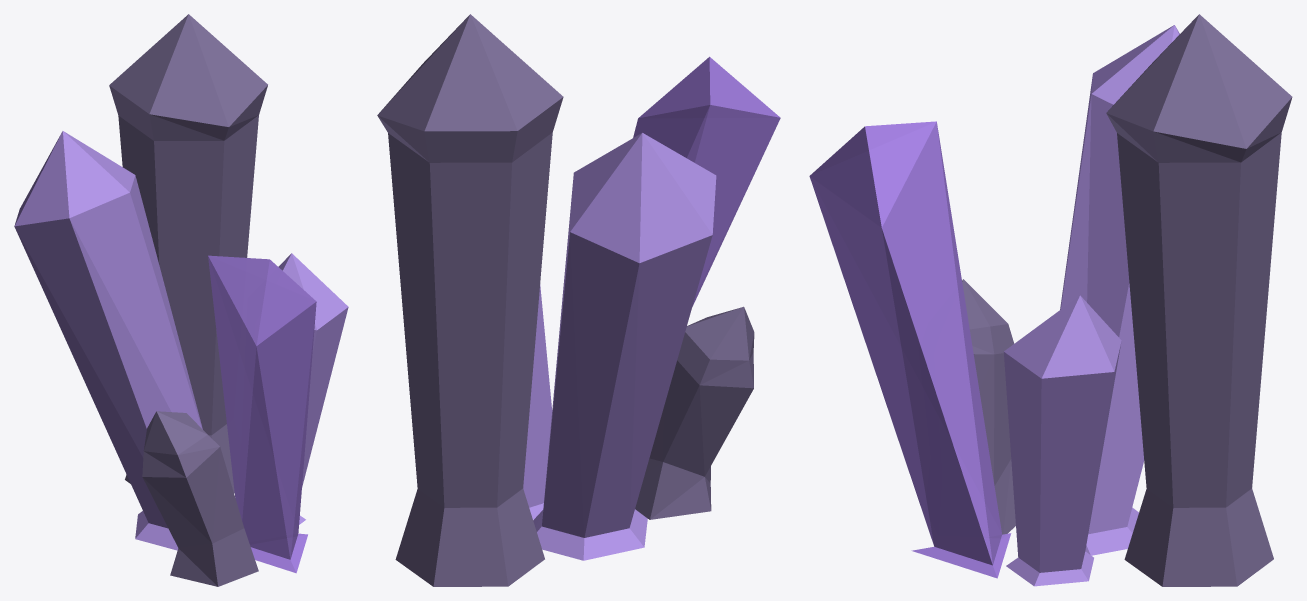
Rendered from Crystal_purple_big.fbx.
3 renders of one model, left to right at view 1: azimuth 30°, elevation 25°; view 2: azimuth 150°, elevation 25°; view 3: azimuth 270°, elevation 25°, orthographic. The views are drawn at different scales.
Visible parts, largest first — view 1: prop_crystal_purple_big; view 2: prop_crystal_purple_big; view 3: prop_crystal_purple_big.
Part boxes in pixels (x1,y1,x2,y2): prop_crystal_purple_big: (14, 14, 348, 586); prop_crystal_purple_big: (377, 14, 780, 586); prop_crystal_purple_big: (809, 14, 1292, 586).
Bounding box in the file's own units: 65.08 × 102 × 82.07.
